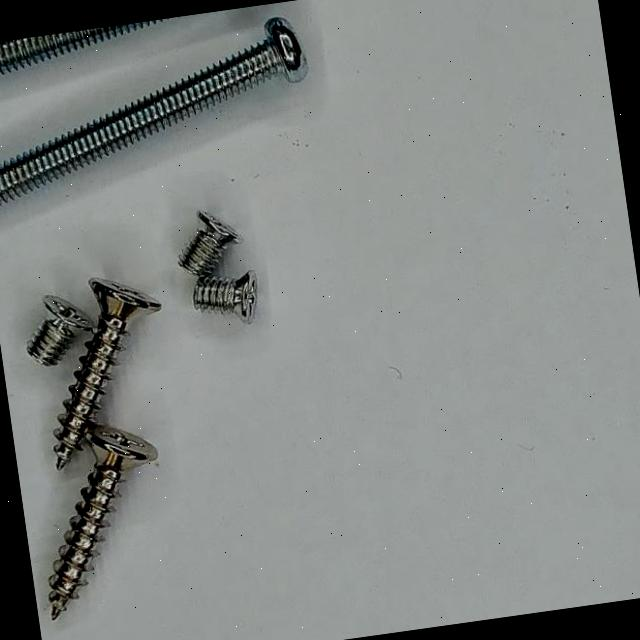Screw: (0, 18, 308, 203), (48, 425, 157, 620), (53, 279, 160, 470), (0, 19, 166, 74), (25, 296, 91, 366), (177, 212, 242, 276), (193, 271, 256, 323)
